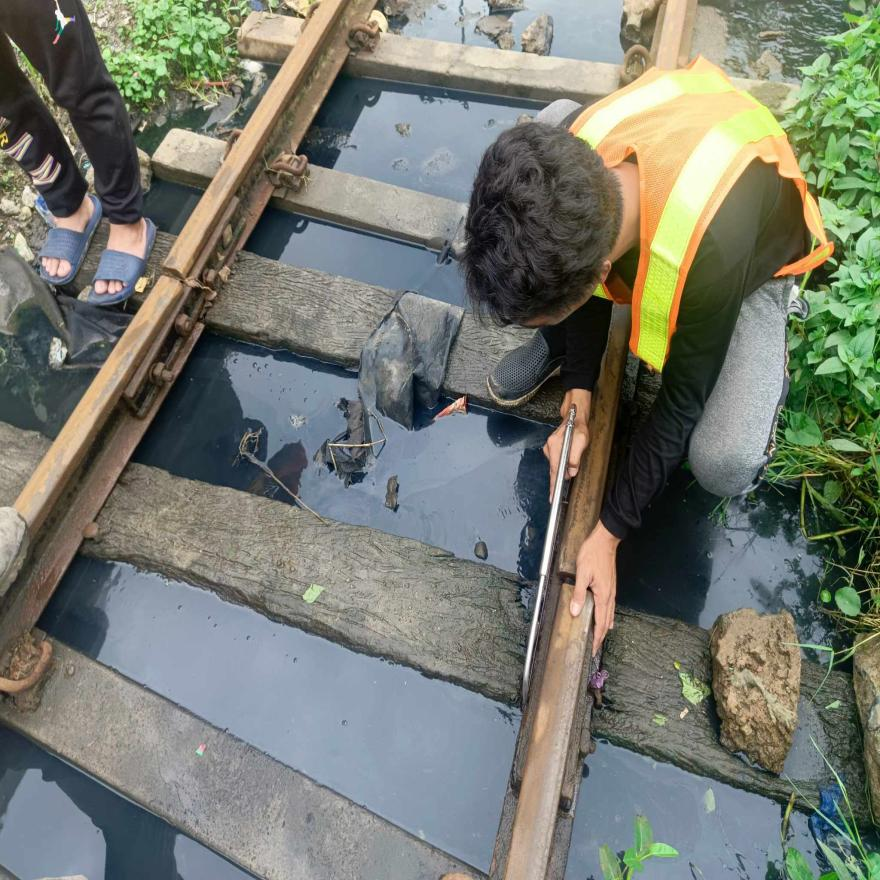railway-gap: (146, 243, 201, 313)
